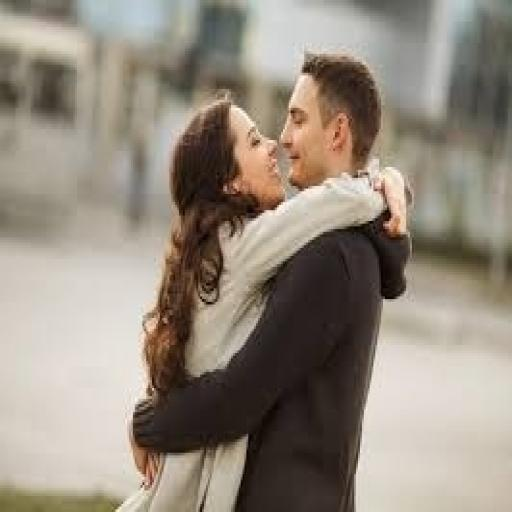hugging: (121, 52, 414, 510)
